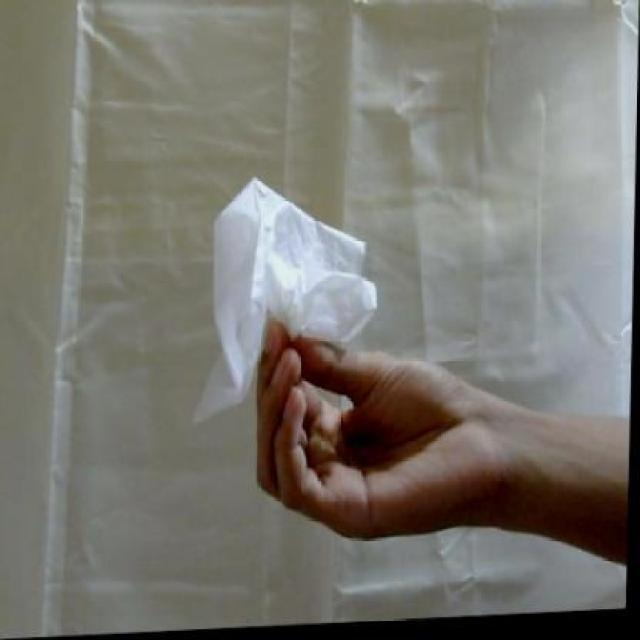Plastic: (181, 174, 384, 428)
